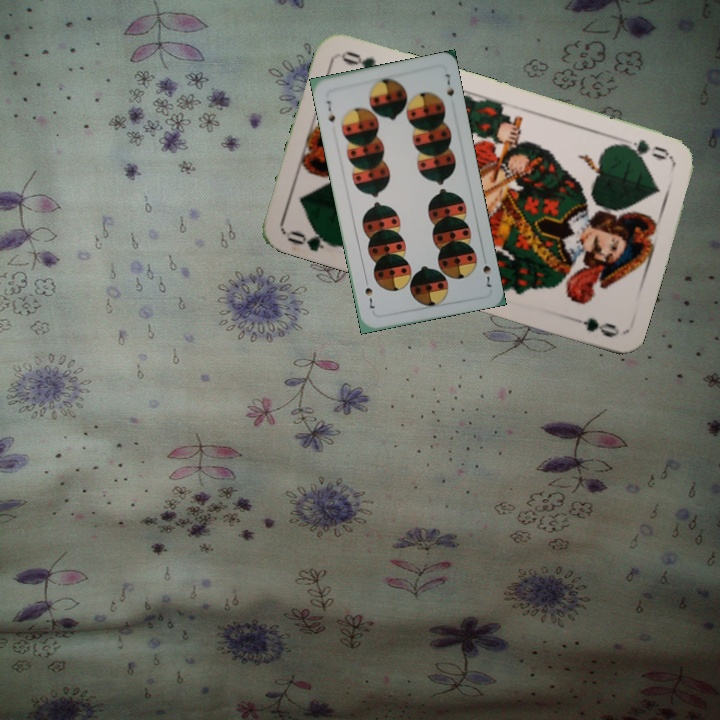GO: (283, 224, 342, 254), (615, 135, 673, 163)
S7: (322, 96, 338, 124), (479, 261, 494, 290)
